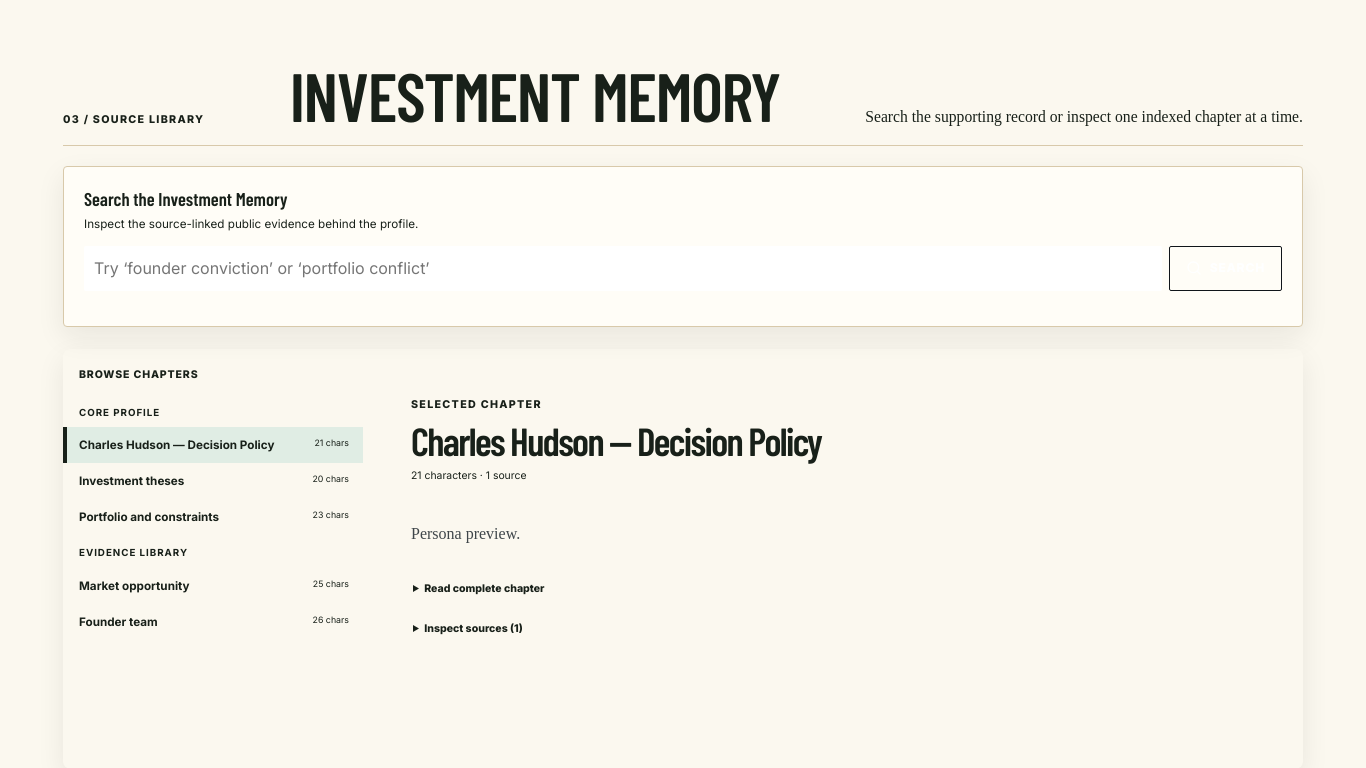
Scenario: InvestmentMemoryLibrary › offers every chapter through the compact mobile selector
Select "Founder team" in the dropdown named "Choose Investment Memory chapter". click: (139, 374)
box: [79,368,198,381]
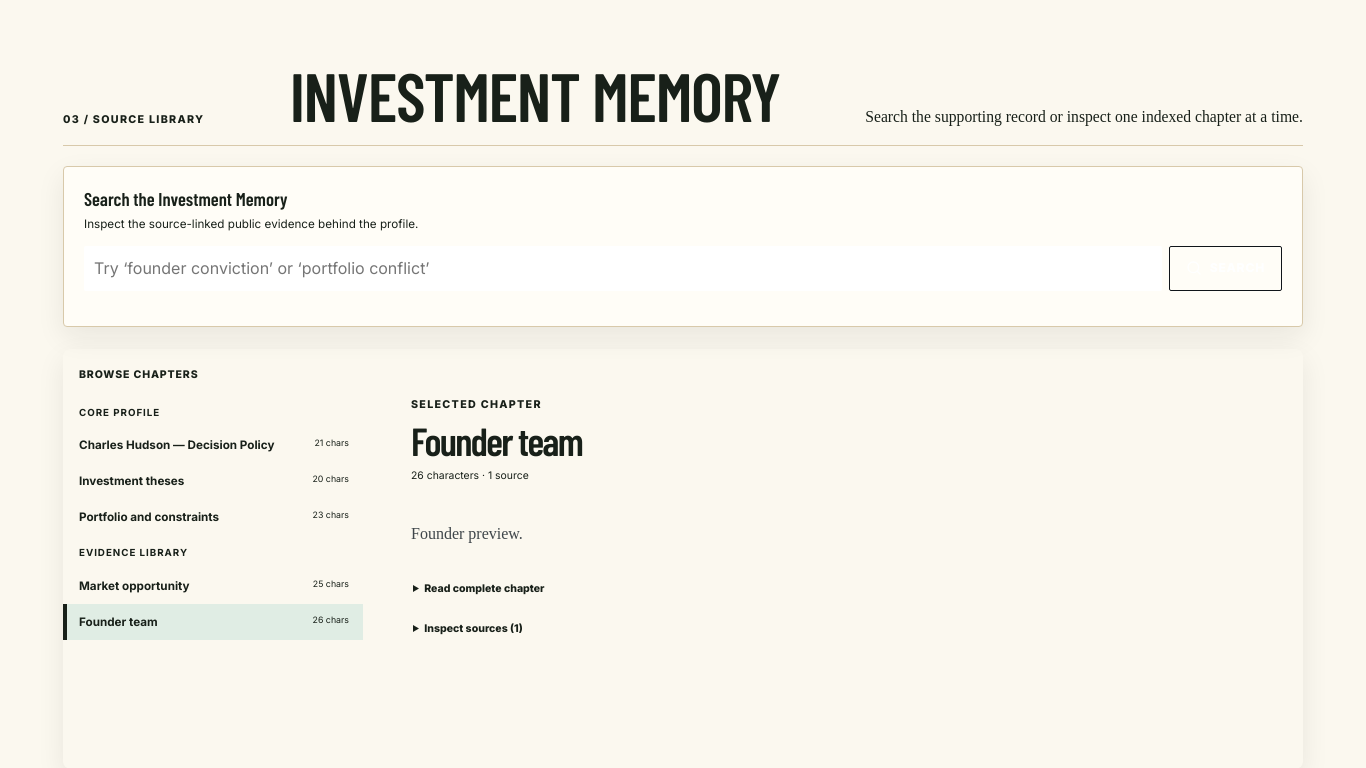
Check: the element named "Investment Memory chapter: Founder team" is shown, box [411,398,582,635]
